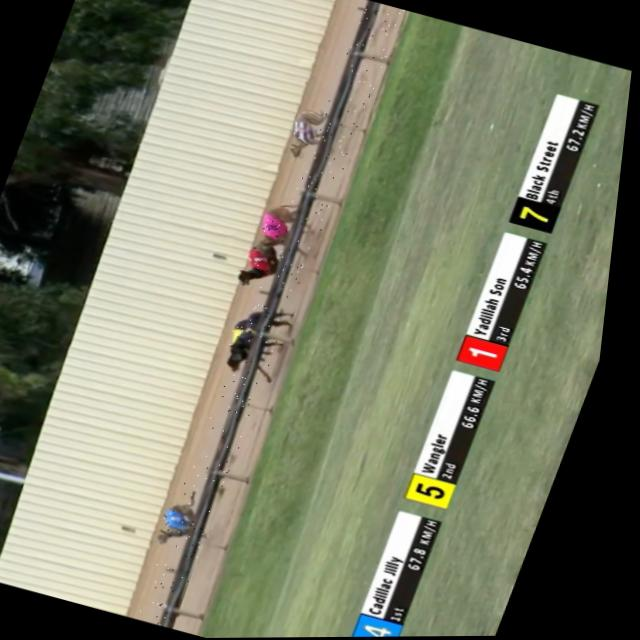dog_eight: (265, 217, 295, 239)
dog_five: (236, 324, 262, 348)
dog_four: (173, 508, 205, 530)
dog_one: (253, 250, 284, 271)
dog_seven: (248, 323, 272, 343)
dog_two: (295, 121, 326, 143)
rail: (175, 0, 381, 628)
